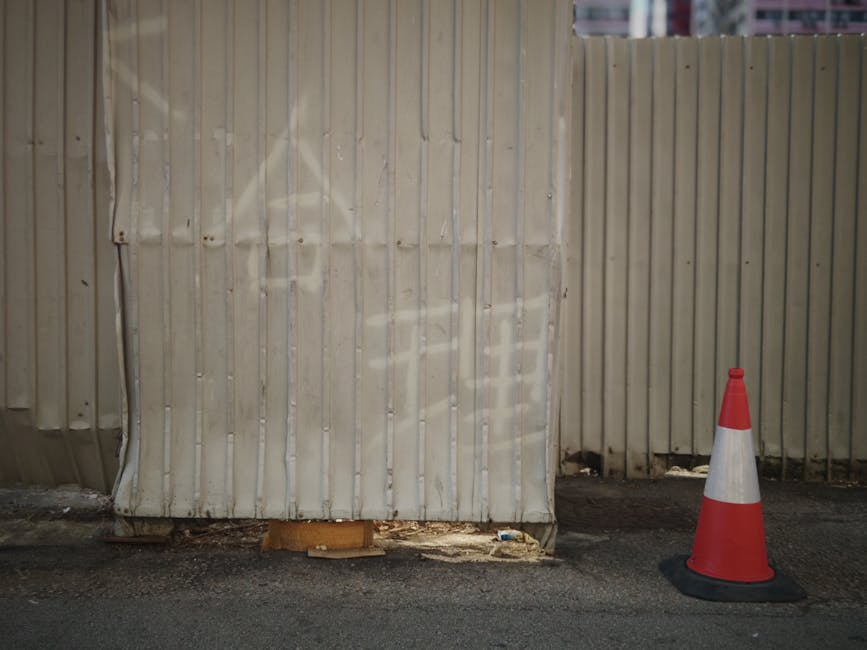traffic_cone: (662, 366, 808, 603)
